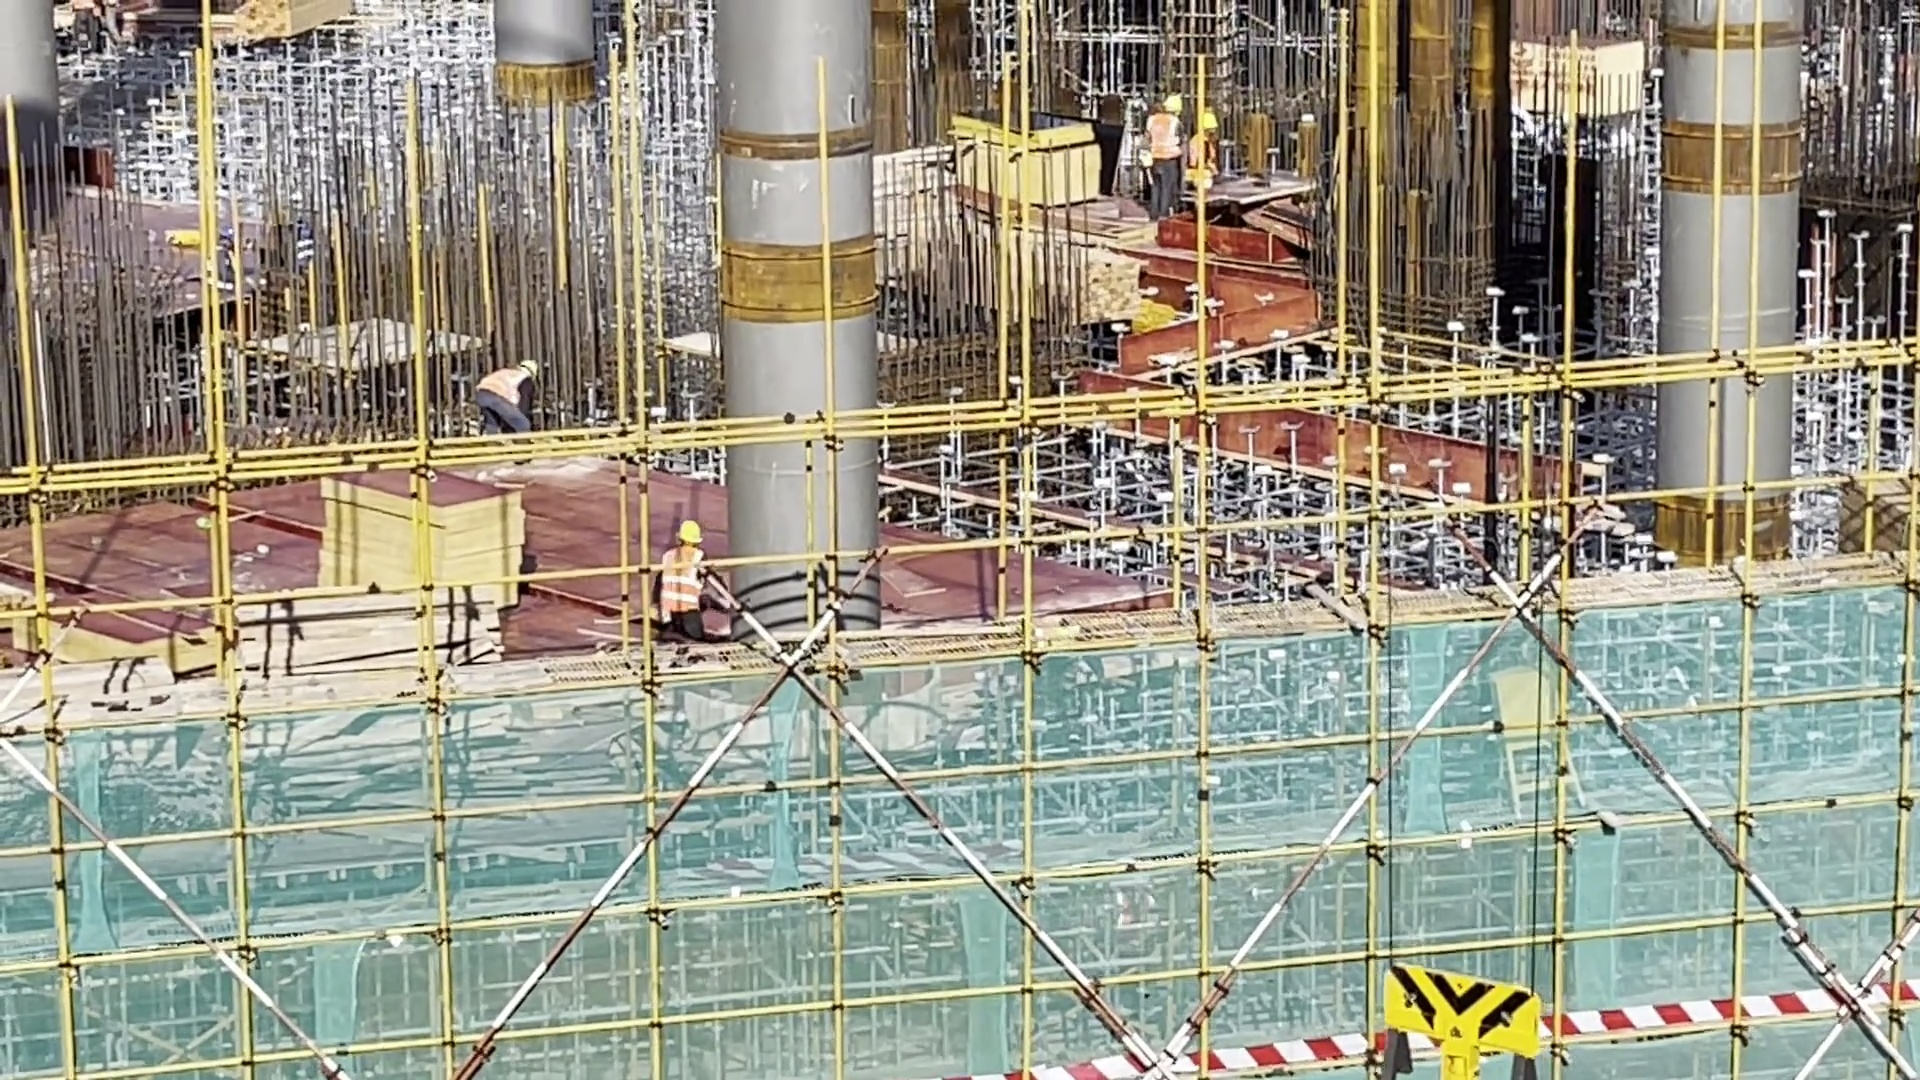board: (309, 468, 526, 630), (955, 112, 1112, 224), (1831, 468, 1920, 569)
ebox: (1483, 660, 1584, 824)
helmet: (675, 521, 709, 549), (521, 353, 541, 379), (1164, 95, 1184, 118), (1201, 114, 1218, 131)
hook: (1363, 945, 1565, 1080)
person: (648, 516, 713, 670), (472, 354, 558, 452), (1141, 88, 1187, 222), (1179, 105, 1225, 206)
vest: (657, 544, 709, 624), (480, 358, 525, 412), (1148, 112, 1184, 165), (1185, 133, 1218, 174)
wood: (234, 580, 508, 719), (234, 1, 366, 57)
